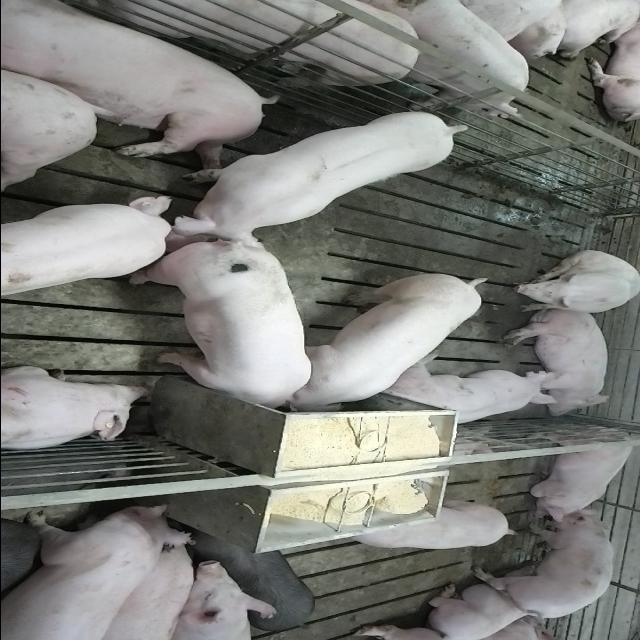Feeding: (130, 242, 314, 414), (280, 272, 490, 418)
Lateral_lying: (500, 306, 610, 418)
Sitting: (504, 430, 636, 520), (504, 250, 640, 314)
Standing: (166, 112, 471, 250), (88, 1, 420, 89), (0, 506, 191, 640), (377, 0, 533, 119), (0, 194, 175, 296), (180, 528, 318, 638), (476, 511, 614, 621), (106, 534, 200, 640), (329, 500, 522, 550)
Sternal_lying: (0, 0, 275, 166), (381, 350, 555, 429), (0, 365, 146, 451), (420, 562, 556, 640)
